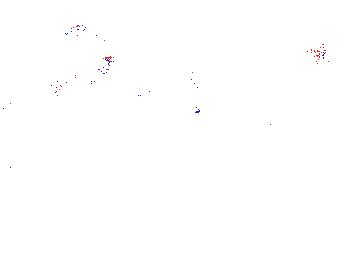red belly glassfish: (62, 10, 94, 41)
redtail glassfish: (47, 54, 115, 99), (135, 74, 200, 101), (309, 34, 333, 63)
